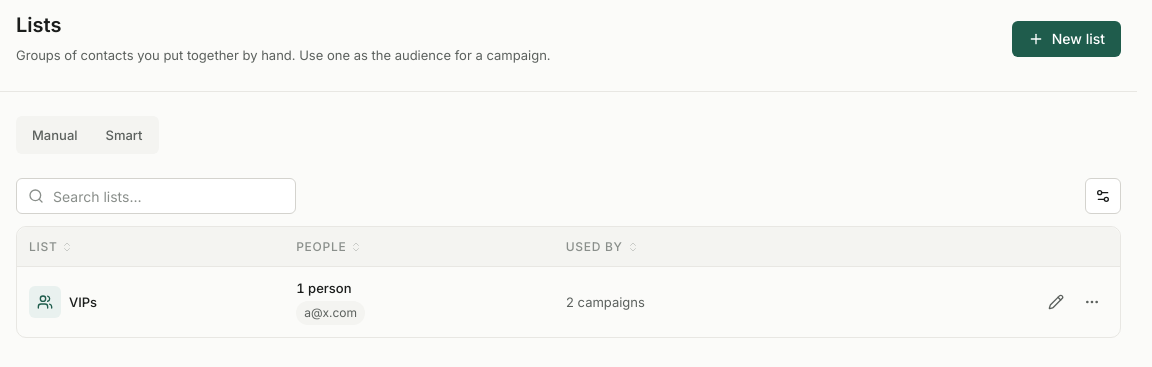
ContactLists › filters lists by search
Expected: the text "VIPs" is shown, [69, 293, 97, 311]
Type "zzz" into the field with placeholder "Search lists…" at (156, 196), box [16, 178, 296, 214]
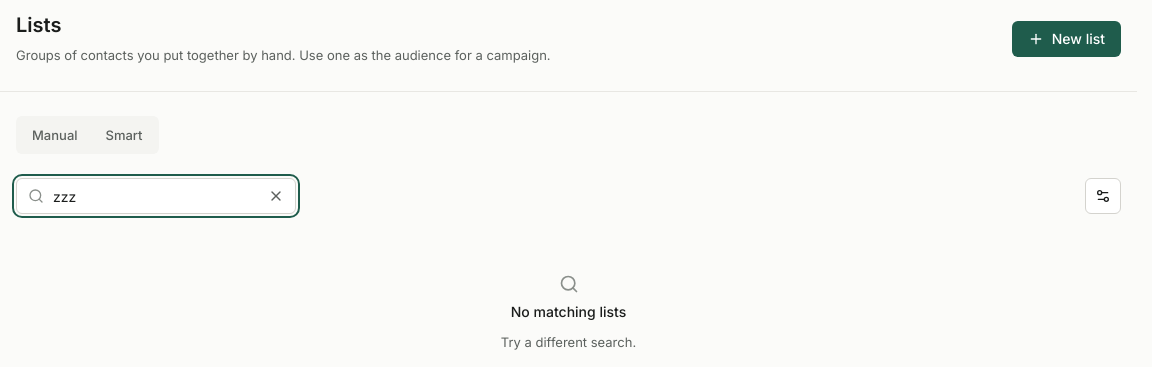
Now the text "No matching lists" is shown, box [511, 302, 626, 322]
